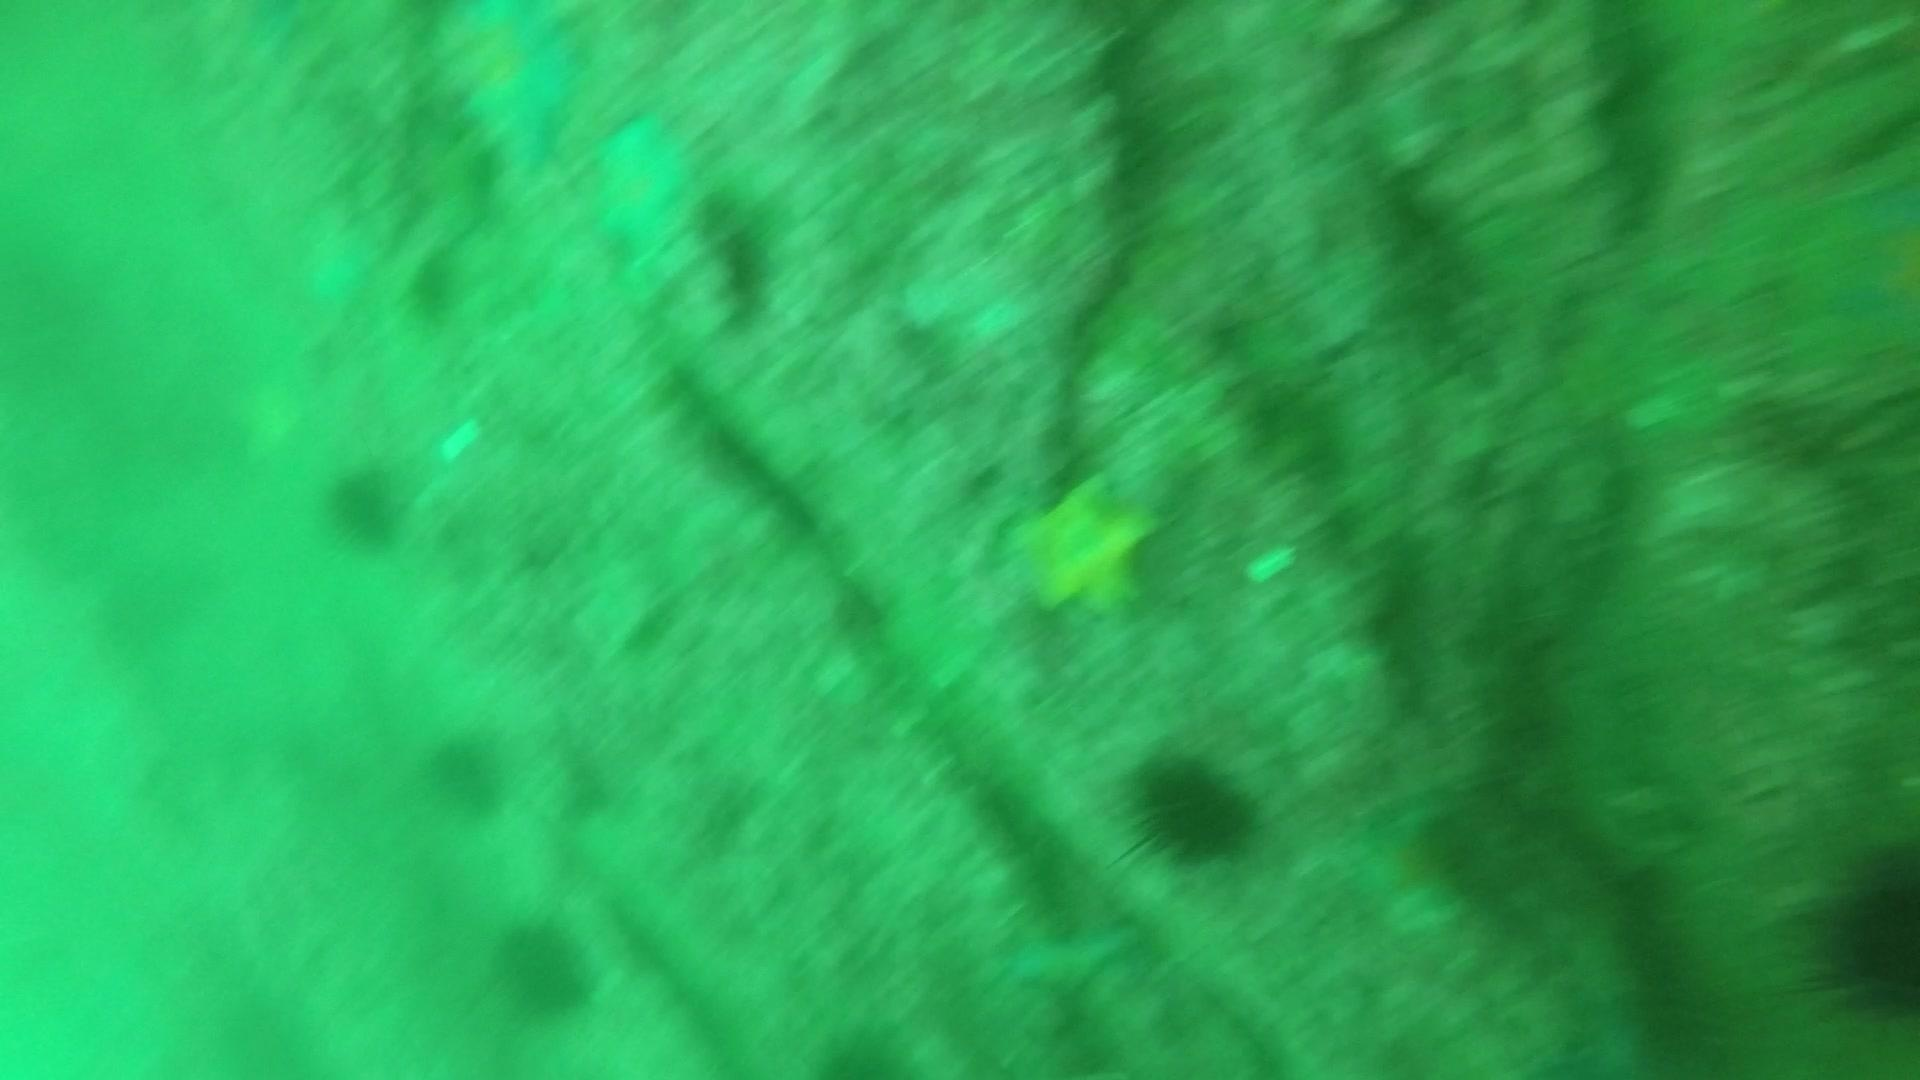echinus: (1808, 836, 1919, 1026), (1122, 744, 1265, 869), (487, 911, 599, 1021), (318, 456, 410, 553), (419, 723, 512, 816), (400, 247, 469, 324)
starfish: (429, 3, 589, 178), (1000, 468, 1168, 632), (593, 102, 694, 289), (1335, 791, 1464, 931), (996, 914, 1134, 1002)
